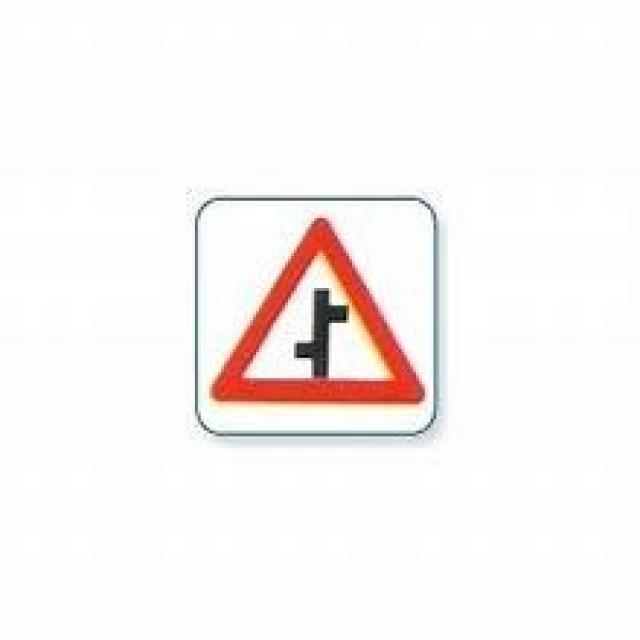STAGGERED_INTERSECTION: (209, 212, 425, 404)
